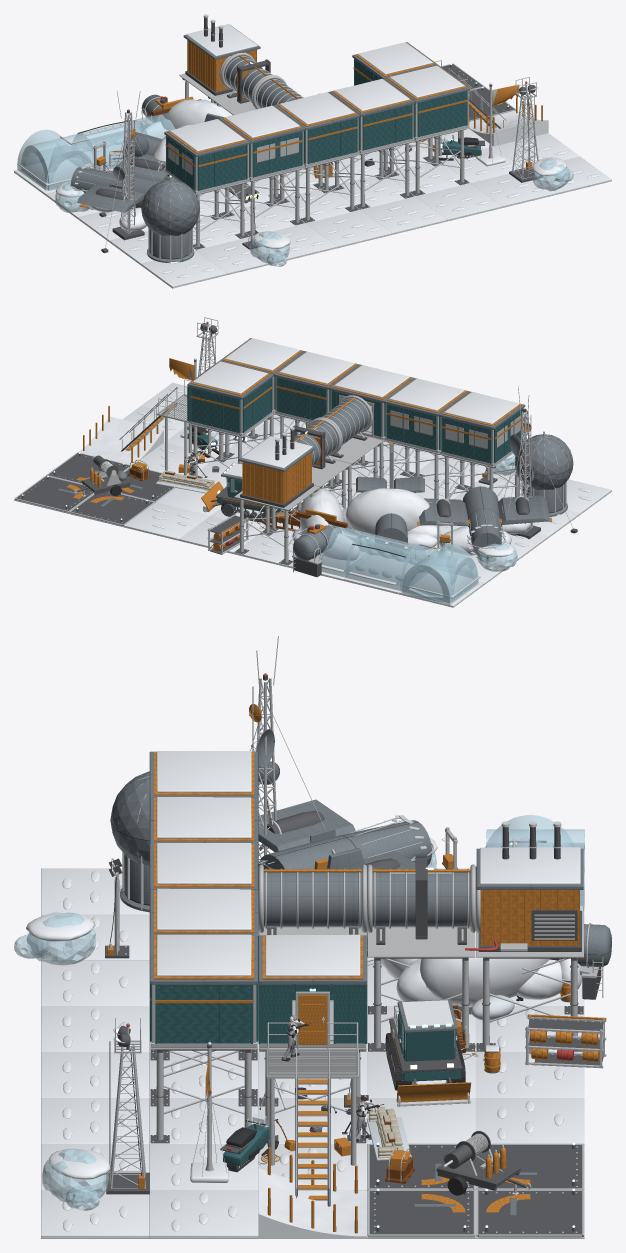
File: env.glb
3 views of the same model, one above another, from view 1: azimuth 30°, elevation 25°; view 2: azimuth 150°, elevation 25°; view 3: azimuth 270°, elevation 25° (orthographic). The views are drawn at different scales.
Parts seen in each view (by area): view 1: 059-radar-dome/0, 069-ice-tunnel-bend/0, 074-crashed-transport-nose/0, 049-habitat-module-window-cap/6, 052-habitat-module-straight/6, 019-snow-ground-tile/1, 024-snow-ground-tile/1, 029-snow-ground-tile/1, 051-habitat-module-t-junction/6, 053-habitat-module-corner/6, 034-snow-ground-tile/1, 004-snow-ground-tile/1 (+64 smaller); view 2: 074-crashed-transport-nose/0, 069-ice-tunnel-bend/0, 068-ice-tunnel-section/0, 076-snow-drift-bank/0, 059-radar-dome/0, 054-habitat-module-door-cap/6, 057-generator-hut/1, 037-snow-ramp/0, 075-crashed-transport-tail/0, 049-habitat-module-window-cap/6, 025-snow-ground-tile/1, 052-habitat-module-straight/6 (+70 smaller); view 3: 074-crashed-transport-nose/0, 070-snow-drift-bank/0, 053-habitat-module-corner/6, 037-snow-ramp/0, 058-module-stair-and-platform/0, 038-snow-ground-tile/1, 014-snow-ground-tile/1, 055-corridor-tube/0, 025-snow-ground-tile/1, 029-snow-ground-tile/1, 024-snow-ground-tile/1, 039-snow-ground-tile/1 (+69 smaller).
Boxes of the visible parts, bbox=[...] form: 059-radar-dome/0: bbox=[141, 180, 199, 262]; 069-ice-tunnel-bend/0: bbox=[17, 129, 98, 190]; 074-crashed-transport-nose/0: bbox=[70, 154, 168, 212]; 049-habitat-module-window-cap/6: bbox=[166, 135, 247, 190]; 052-habitat-module-straight/6: bbox=[358, 104, 412, 150]; 019-snow-ground-tile/1: bbox=[306, 210, 392, 247]; 024-snow-ground-tile/1: bbox=[361, 196, 446, 233]; 029-snow-ground-tile/1: bbox=[416, 183, 501, 220]; 051-habitat-module-t-junction/6: bbox=[304, 118, 357, 164]; 053-habitat-module-corner/6: bbox=[413, 91, 467, 137]; 034-snow-ground-tile/1: bbox=[471, 174, 556, 207]; 004-snow-ground-tile/1: bbox=[141, 250, 227, 287]; 074-crashed-transport-nose/0: bbox=[419, 486, 549, 558]; 069-ice-tunnel-bend/0: bbox=[400, 544, 478, 604]; 068-ice-tunnel-section/0: bbox=[345, 532, 426, 590]; 076-snow-drift-bank/0: bbox=[342, 488, 441, 539]; 059-radar-dome/0: bbox=[515, 434, 573, 516]; 054-habitat-module-door-cap/6: bbox=[187, 378, 271, 433]; 057-generator-hut/1: bbox=[242, 452, 311, 504]; 037-snow-ramp/0: bbox=[78, 416, 163, 465]; 075-crashed-transport-tail/0: bbox=[356, 444, 424, 555]; 049-habitat-module-window-cap/6: bbox=[441, 408, 523, 463]; 025-snow-ground-tile/1: bbox=[124, 502, 209, 539]; 052-habitat-module-straight/6: bbox=[276, 377, 330, 420]; 074-crashed-transport-nose/0: bbox=[258, 799, 431, 869]; 070-snow-drift-bank/0: bbox=[396, 931, 562, 1007]; 053-habitat-module-corner/6: bbox=[150, 984, 258, 1043]; 037-snow-ramp/0: bbox=[258, 1168, 367, 1238]; 058-module-stair-and-platform/0: bbox=[266, 1022, 358, 1202]; 038-snow-ground-tile/1: bbox=[149, 1190, 258, 1237]; 014-snow-ground-tile/1: bbox=[41, 960, 149, 1005]; 055-corridor-tube/0: bbox=[264, 872, 361, 926]; 025-snow-ground-tile/1: bbox=[476, 1098, 584, 1144]; 029-snow-ground-tile/1: bbox=[41, 1098, 149, 1143]; 024-snow-ground-tile/1: bbox=[41, 1052, 149, 1097]; 039-snow-ground-tile/1: bbox=[41, 1190, 149, 1237].
Size of the model in its own units: 33.25 by 10.02 by 22.01.
Materials: 22 (4 with a texture image).
